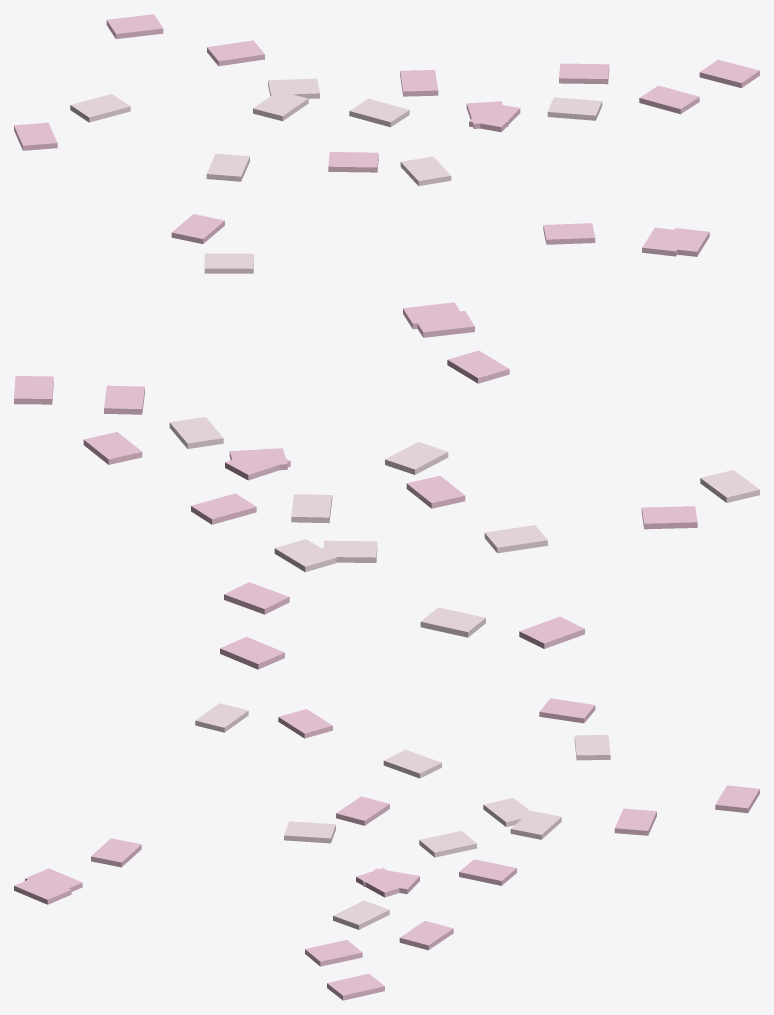
The model's file is Petals.fbx.
The picture shows the model from 3 angles, top to bottom: view 1: azimuth 30°, elevation 25°; view 2: azimuth 150°, elevation 25°; view 3: azimuth 270°, elevation 25°; orthographic projection. The views are drawn at different scales.
Parts seen in each view (by area): view 1: Petals_Mesh; view 2: Petals_Mesh; view 3: Petals_Mesh.
Part boxes in pixels (box(x1,y1,x2,y2)): Petals_Mesh: box(14, 14, 759, 273); Petals_Mesh: box(14, 302, 759, 669); Petals_Mesh: box(14, 698, 759, 1000).
Bounding box in the file's own units: 1.04 × 0.008 × 1.1.
